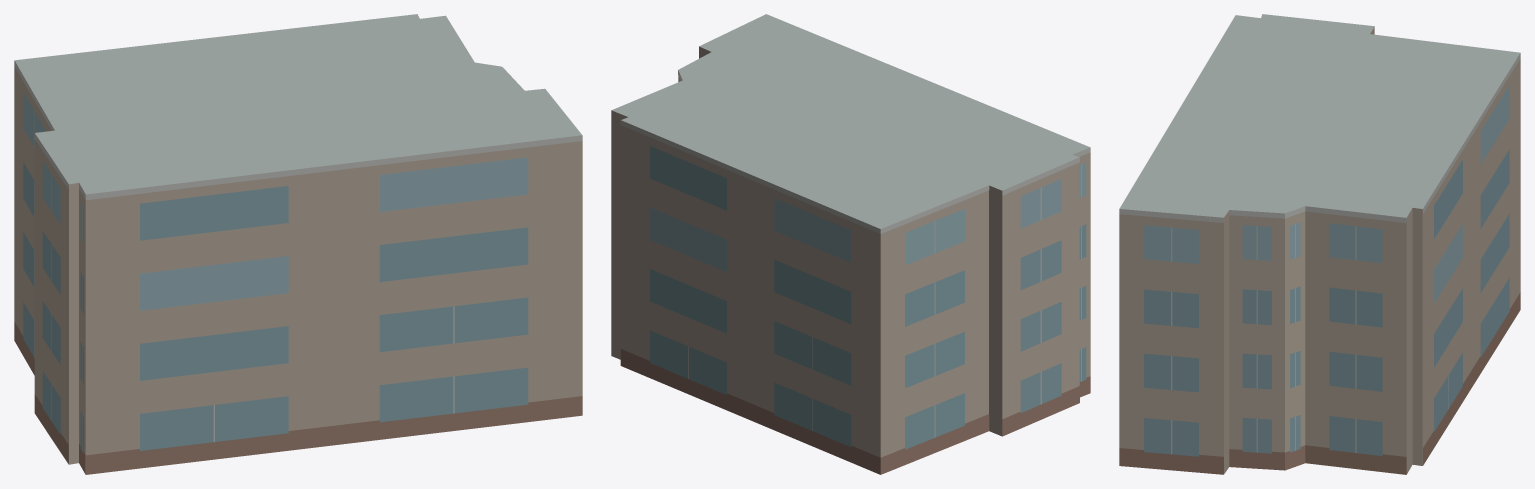
Rendered from survey-upis-32668368.glb.
3 renders of one model, left to right at view 1: azimuth 30°, elevation 25°; view 2: azimuth 150°, elevation 25°; view 3: azimuth 270°, elevation 25°, orthographic. The views are drawn at different scales.
Visible parts, largest first — view 1: survey-upis-32668368.tmp; view 2: survey-upis-32668368.tmp; view 3: survey-upis-32668368.tmp.
Boxes of the visible parts, x1,y1,x2,y2 form: survey-upis-32668368.tmp: (14, 14, 582, 474); survey-upis-32668368.tmp: (611, 14, 1090, 474); survey-upis-32668368.tmp: (1119, 14, 1520, 474).
Bounding box in the file's own units: 20.42 × 12 × 16.99.
